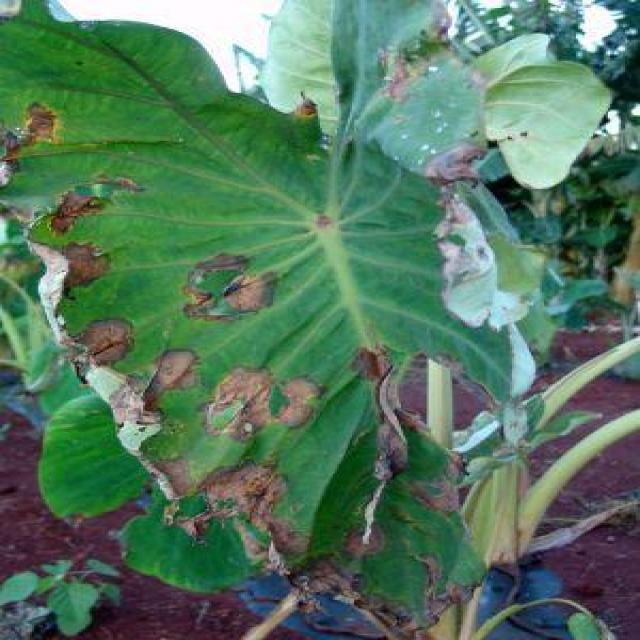blight: (203, 373, 318, 437), (188, 464, 295, 531)
